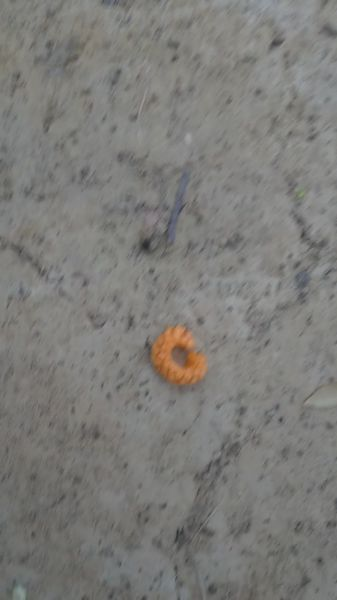eggs: (148, 319, 213, 399)
